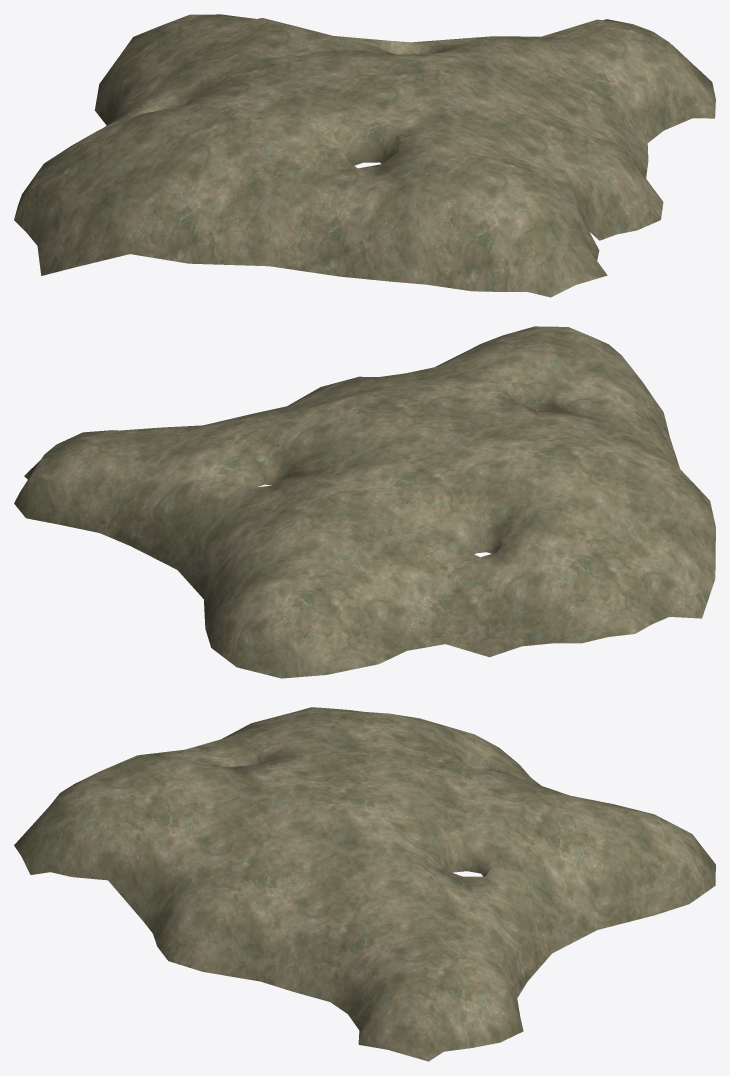
The model's file is EKH_CAVERNS_PS_CA_SM_CAVE_ROOF74758.fbx.
3 renders of one model, top to bottom at view 1: azimuth 30°, elevation 25°; view 2: azimuth 150°, elevation 25°; view 3: azimuth 270°, elevation 25°, orthographic. The views are drawn at different scales.
Visible parts, largest first — view 1: EKH_CAVERNS_PS_CA_SM_CAVE_ROOF74758; view 2: EKH_CAVERNS_PS_CA_SM_CAVE_ROOF74758; view 3: EKH_CAVERNS_PS_CA_SM_CAVE_ROOF74758.
Boxes of the visible parts, x1,y1,x2,y2 form: EKH_CAVERNS_PS_CA_SM_CAVE_ROOF74758: [14, 14, 715, 297]; EKH_CAVERNS_PS_CA_SM_CAVE_ROOF74758: [14, 326, 715, 678]; EKH_CAVERNS_PS_CA_SM_CAVE_ROOF74758: [14, 707, 715, 1061].
Size of the model in its own units: 236018 by 44682 by 228839.
1 material, 1 textured.
